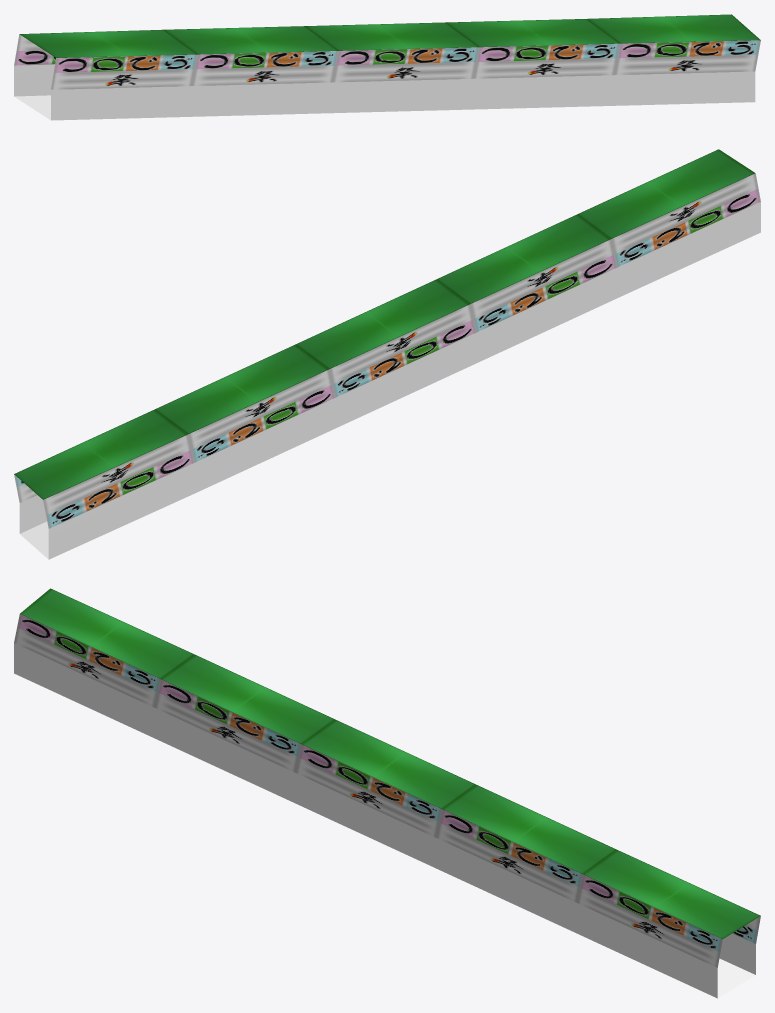
File: CourseWinter_Wall_L_5.fbx
3 renders of one model, top to bottom at view 1: azimuth 30°, elevation 25°; view 2: azimuth 210°, elevation 25°; view 3: azimuth 330°, elevation 25°, orthographic.
Visible parts, largest first — view 1: polySurface390; view 2: polySurface390; view 3: polySurface390.
Boxes of the visible parts, x1=… form: polySurface390: x1=14, y1=14, x2=760, y2=120; polySurface390: x1=14, y1=149, x2=760, y2=559; polySurface390: x1=14, y1=588, x2=760, y2=998.
Bounding box in the file's own units: 24.44 × 6.98 × 2.03.
Materials: 1 (1 with a texture image).
